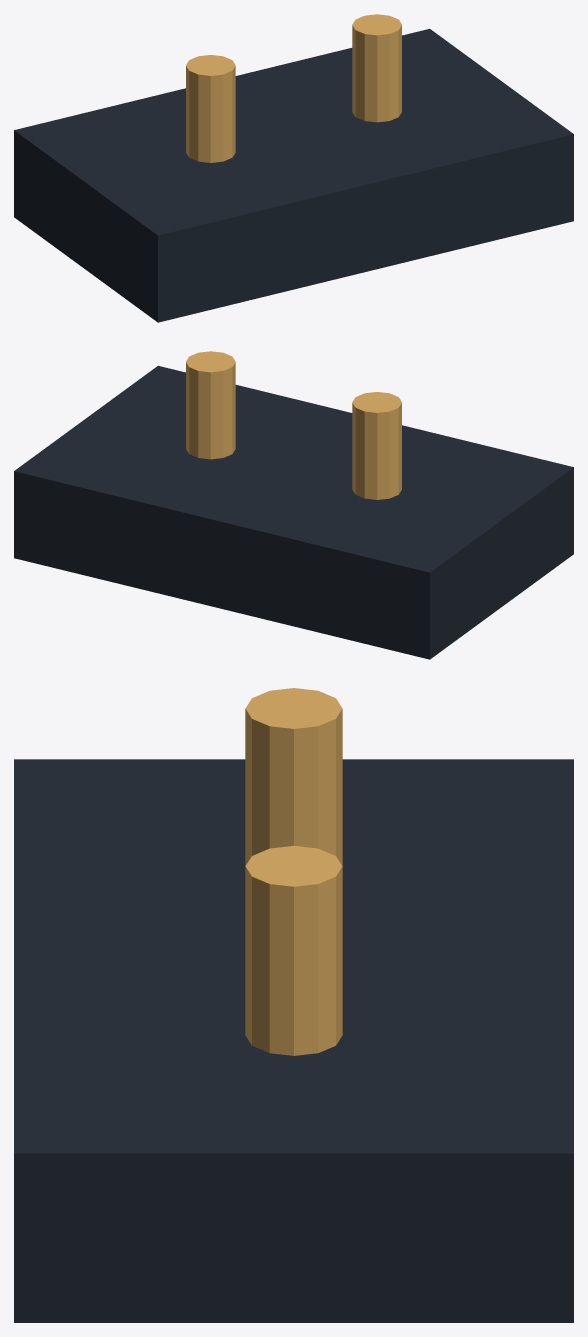
File: 66_L97_W067_Header_Base.fbx
3 renders of one model, top to bottom at view 1: azimuth 30°, elevation 25°; view 2: azimuth 150°, elevation 25°; view 3: azimuth 270°, elevation 25°, orthographic. The views are drawn at different scales.
Parts seen in each view (by area): view 1: Plastic_header, Pin (×2); view 2: Plastic_header, Pin (×2); view 3: Plastic_header, Pin (×2).
Part boxes in pixels (x1=…): Plastic_header: x1=14, y1=28, x2=573, y2=322; Pin (×2): x1=186, y1=14, x2=401, y2=162; Plastic_header: x1=14, y1=365, x2=573, y2=659; Pin (×2): x1=186, y1=351, x2=401, y2=499; Plastic_header: x1=14, y1=759, x2=573, y2=1322; Pin (×2): x1=245, y1=688, x2=342, y2=1055.
Size of the model in its own units: 0.01 by 0.004 by 0.006.
